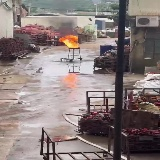fire: (58, 34, 79, 47)
